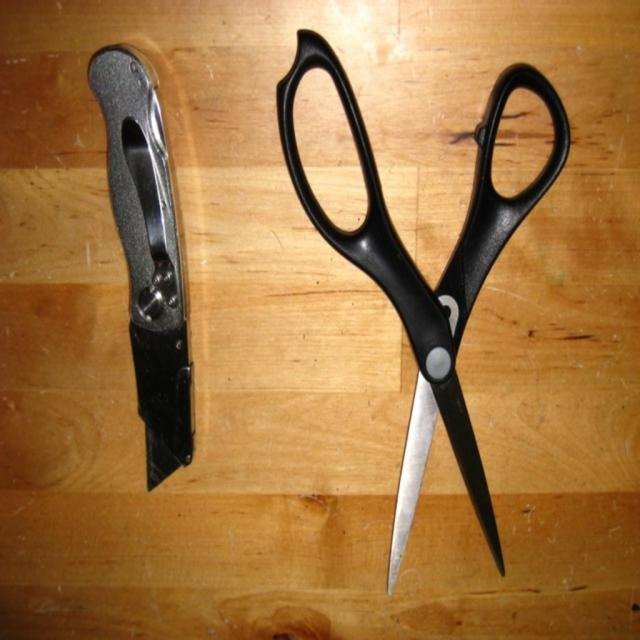scissors: (275, 27, 570, 595)
